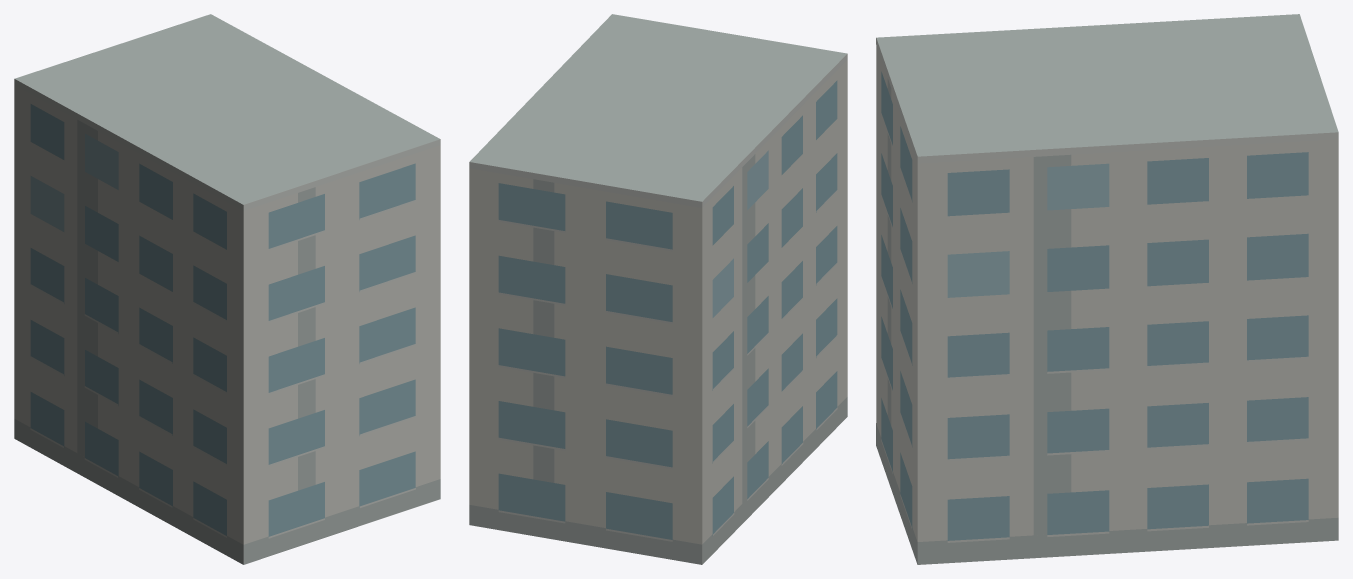
The model's file is survey-upis-32721253.glb.
3 views of the same model, side by side, from view 1: azimuth 30°, elevation 25°; view 2: azimuth 150°, elevation 25°; view 3: azimuth 270°, elevation 25° (orthographic). The views are drawn at different scales.
Visible parts, largest first — view 1: survey-upis-32721253.tmp; view 2: survey-upis-32721253.tmp; view 3: survey-upis-32721253.tmp.
Boxes of the visible parts, x1=… form: survey-upis-32721253.tmp: x1=14, y1=14, x2=440, y2=564; survey-upis-32721253.tmp: x1=469, y1=14, x2=847, y2=564; survey-upis-32721253.tmp: x1=876, y1=14, x2=1338, y2=564.
Bounding box in the file's own units: 10.65 × 14.2 × 14.59.
